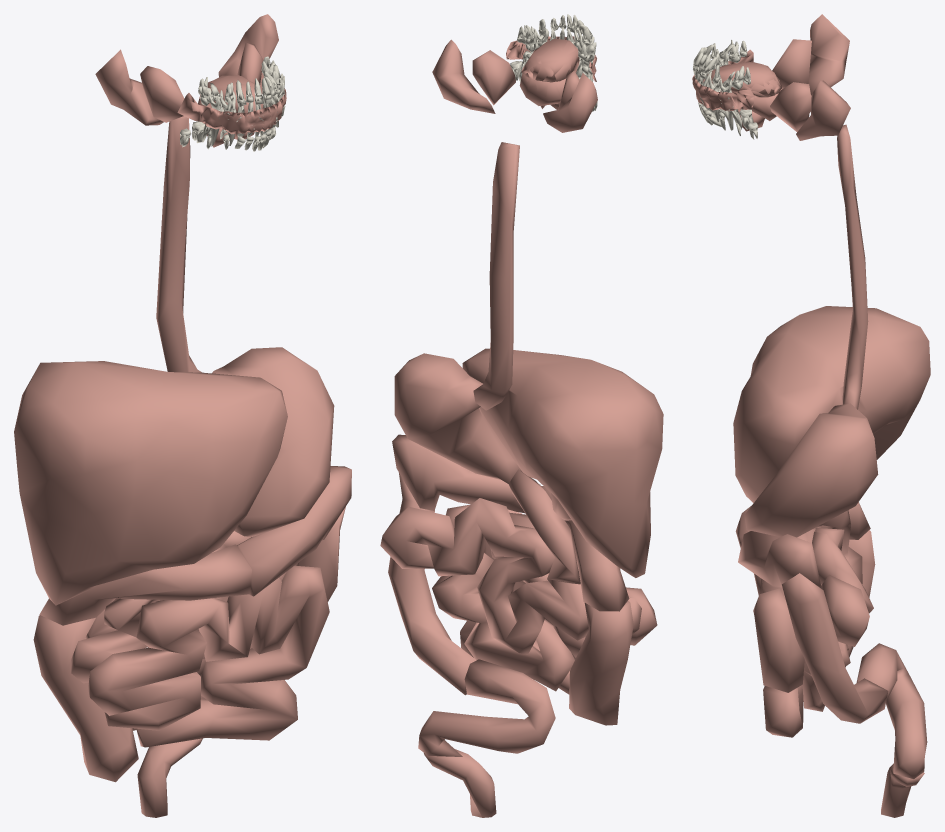
The model's file is pediatric_child_5y_female.digestive.LOD3.glb.
3 renders of one model, left to right at view 1: azimuth 30°, elevation 25°; view 2: azimuth 150°, elevation 25°; view 3: azimuth 270°, elevation 25°, orthographic. The views are drawn at different scales.
Visible parts, largest first — view 1: PEDIATRIC.CHILD_5Y.FEMALE.DIGESTIVE.LIVER, PEDIATRIC.CHILD_5Y.FEMALE.DIGESTIVE.SMALL_INTESTINE_WALL, PEDIATRIC.CHILD_5Y.FEMALE.DIGESTIVE.STOMACH_WALL, PEDIATRIC.CHILD_5Y.FEMALE.DIGESTIVE.ASCENDING_COLON_WALL, PEDIATRIC.CHILD_5Y.FEMALE.DIGESTIVE.TRANSVERSE_COLON_WALL.R, PEDIATRIC.CHILD_5Y.FEMALE.DIGESTIVE.OESOPHAGUS_WALL, PEDIATRIC.CHILD_5Y.FEMALE.DIGESTIVE.TRANSVERSE_COLON_WALL.L, PEDIATRIC.CHILD_5Y.FEMALE.DIGESTIVE.SALIVARY_GLANDS.R, PEDIATRIC.CHILD_5Y.FEMALE.DIGESTIVE.RECTUM_WALL, PEDIATRIC.CHILD_5Y.FEMALE.DIGESTIVE.SALIVARY_GLANDS.L, PEDIATRIC.CHILD_5Y.FEMALE.DIGESTIVE.ORAL_MUCOSA_LIP_AND_CHEE, PEDIATRIC.CHILD_5Y.FEMALE.DIGESTIVE.PERMANENT_CEMENTUM (+4 smaller); view 2: PEDIATRIC.CHILD_5Y.FEMALE.DIGESTIVE.SMALL_INTESTINE_WALL, PEDIATRIC.CHILD_5Y.FEMALE.DIGESTIVE.LIVER, PEDIATRIC.CHILD_5Y.FEMALE.DIGESTIVE.STOMACH_WALL, PEDIATRIC.CHILD_5Y.FEMALE.DIGESTIVE.SIGMOID_COLON_WALL, PEDIATRIC.CHILD_5Y.FEMALE.DIGESTIVE.OESOPHAGUS_WALL, PEDIATRIC.CHILD_5Y.FEMALE.DIGESTIVE.ASCENDING_COLON_WALL, PEDIATRIC.CHILD_5Y.FEMALE.DIGESTIVE.DESCENDING_COLON_WALL, PEDIATRIC.CHILD_5Y.FEMALE.DIGESTIVE.TRANSVERSE_COLON_WALL.L, PEDIATRIC.CHILD_5Y.FEMALE.DIGESTIVE.SALIVARY_GLANDS.L, PEDIATRIC.CHILD_5Y.FEMALE.DIGESTIVE.TRANSVERSE_COLON_WALL.R, PEDIATRIC.CHILD_5Y.FEMALE.DIGESTIVE.RECTUM_WALL, PEDIATRIC.CHILD_5Y.FEMALE.DIGESTIVE.SALIVARY_GLANDS.R (+6 smaller); view 3: PEDIATRIC.CHILD_5Y.FEMALE.DIGESTIVE.LIVER, PEDIATRIC.CHILD_5Y.FEMALE.DIGESTIVE.SMALL_INTESTINE_WALL, PEDIATRIC.CHILD_5Y.FEMALE.DIGESTIVE.STOMACH_WALL, PEDIATRIC.CHILD_5Y.FEMALE.DIGESTIVE.DESCENDING_COLON_WALL, PEDIATRIC.CHILD_5Y.FEMALE.DIGESTIVE.SIGMOID_COLON_WALL, PEDIATRIC.CHILD_5Y.FEMALE.DIGESTIVE.OESOPHAGUS_WALL, PEDIATRIC.CHILD_5Y.FEMALE.DIGESTIVE.SALIVARY_GLANDS.R, PEDIATRIC.CHILD_5Y.FEMALE.DIGESTIVE.SALIVARY_GLANDS.L, PEDIATRIC.CHILD_5Y.FEMALE.DIGESTIVE.TRANSVERSE_COLON_WALL.L, PEDIATRIC.CHILD_5Y.FEMALE.DIGESTIVE.ORAL_MUCOSA_LIP_AND_CHEE, PEDIATRIC.CHILD_5Y.FEMALE.DIGESTIVE.RECTUM_WALL, PEDIATRIC.CHILD_5Y.FEMALE.DIGESTIVE.PERMANENT_CEMENTUM (+7 smaller).
Boxes of the visible parts, left/top/right/bottom form: PEDIATRIC.CHILD_5Y.FEMALE.DIGESTIVE.LIVER: left=14, top=361, right=287, bottom=605; PEDIATRIC.CHILD_5Y.FEMALE.DIGESTIVE.SMALL_INTESTINE_WALL: left=71, top=531, right=329, bottom=747; PEDIATRIC.CHILD_5Y.FEMALE.DIGESTIVE.STOMACH_WALL: left=212, top=347, right=334, bottom=536; PEDIATRIC.CHILD_5Y.FEMALE.DIGESTIVE.ASCENDING_COLON_WALL: left=33, top=615, right=138, bottom=782; PEDIATRIC.CHILD_5Y.FEMALE.DIGESTIVE.TRANSVERSE_COLON_WALL.R: left=39, top=544, right=251, bottom=625; PEDIATRIC.CHILD_5Y.FEMALE.DIGESTIVE.OESOPHAGUS_WALL: left=156, top=116, right=201, bottom=372; PEDIATRIC.CHILD_5Y.FEMALE.DIGESTIVE.TRANSVERSE_COLON_WALL.L: left=237, top=466, right=351, bottom=596; PEDIATRIC.CHILD_5Y.FEMALE.DIGESTIVE.SALIVARY_GLANDS.R: left=95, top=49, right=235, bottom=147; PEDIATRIC.CHILD_5Y.FEMALE.DIGESTIVE.RECTUM_WALL: left=137, top=738, right=202, bottom=817; PEDIATRIC.CHILD_5Y.FEMALE.DIGESTIVE.SALIVARY_GLANDS.L: left=218, top=14, right=278, bottom=139; PEDIATRIC.CHILD_5Y.FEMALE.DIGESTIVE.ORAL_MUCOSA_LIP_AND_CHEE: left=177, top=88, right=286, bottom=134; PEDIATRIC.CHILD_5Y.FEMALE.DIGESTIVE.PERMANENT_CEMENTUM: left=180, top=56, right=284, bottom=151; PEDIATRIC.CHILD_5Y.FEMALE.DIGESTIVE.SMALL_INTESTINE_WALL: left=380, top=469, right=657, bottom=694; PEDIATRIC.CHILD_5Y.FEMALE.DIGESTIVE.LIVER: left=462, top=348, right=663, bottom=577; PEDIATRIC.CHILD_5Y.FEMALE.DIGESTIVE.STOMACH_WALL: left=394, top=353, right=521, bottom=483; PEDIATRIC.CHILD_5Y.FEMALE.DIGESTIVE.SIGMOID_COLON_WALL: left=418, top=659, right=555, bottom=756; PEDIATRIC.CHILD_5Y.FEMALE.DIGESTIVE.OESOPHAGUS_WALL: left=473, top=142, right=519, bottom=410; PEDIATRIC.CHILD_5Y.FEMALE.DIGESTIVE.ASCENDING_COLON_WALL: left=569, top=601, right=633, bottom=725; PEDIATRIC.CHILD_5Y.FEMALE.DIGESTIVE.DESCENDING_COLON_WALL: left=388, top=473, right=476, bottom=695; PEDIATRIC.CHILD_5Y.FEMALE.DIGESTIVE.TRANSVERSE_COLON_WALL.L: left=392, top=434, right=540, bottom=513; PEDIATRIC.CHILD_5Y.FEMALE.DIGESTIVE.SALIVARY_GLANDS.L: left=432, top=39, right=545, bottom=113; PEDIATRIC.CHILD_5Y.FEMALE.DIGESTIVE.TRANSVERSE_COLON_WALL.R: left=541, top=486, right=629, bottom=611; PEDIATRIC.CHILD_5Y.FEMALE.DIGESTIVE.RECTUM_WALL: left=424, top=749, right=496, bottom=817; PEDIATRIC.CHILD_5Y.FEMALE.DIGESTIVE.SALIVARY_GLANDS.R: left=543, top=70, right=597, bottom=132; PEDIATRIC.CHILD_5Y.FEMALE.DIGESTIVE.LIVER: left=733, top=306, right=930, bottom=502; PEDIATRIC.CHILD_5Y.FEMALE.DIGESTIVE.SMALL_INTESTINE_WALL: left=753, top=510, right=873, bottom=737; PEDIATRIC.CHILD_5Y.FEMALE.DIGESTIVE.STOMACH_WALL: left=744, top=403, right=878, bottom=537; PEDIATRIC.CHILD_5Y.FEMALE.DIGESTIVE.DESCENDING_COLON_WALL: left=782, top=573, right=888, bottom=723; PEDIATRIC.CHILD_5Y.FEMALE.DIGESTIVE.SIGMOID_COLON_WALL: left=856, top=643, right=927, bottom=778; PEDIATRIC.CHILD_5Y.FEMALE.DIGESTIVE.OESOPHAGUS_WALL: left=837, top=124, right=868, bottom=409; PEDIATRIC.CHILD_5Y.FEMALE.DIGESTIVE.SALIVARY_GLANDS.R: left=772, top=14, right=849, bottom=95; PEDIATRIC.CHILD_5Y.FEMALE.DIGESTIVE.SALIVARY_GLANDS.L: left=733, top=80, right=850, bottom=140; PEDIATRIC.CHILD_5Y.FEMALE.DIGESTIVE.TRANSVERSE_COLON_WALL.L: left=738, top=531, right=821, bottom=588; PEDIATRIC.CHILD_5Y.FEMALE.DIGESTIVE.ORAL_MUCOSA_LIP_AND_CHEE: left=692, top=49, right=754, bottom=111; PEDIATRIC.CHILD_5Y.FEMALE.DIGESTIVE.RECTUM_WALL: left=881, top=764, right=924, bottom=817; PEDIATRIC.CHILD_5Y.FEMALE.DIGESTIVE.PERMANENT_CEMENTUM: left=693, top=40, right=757, bottom=139.
Bounding box in the file's own units: 0.1878 × 0.4794 × 0.1355.
